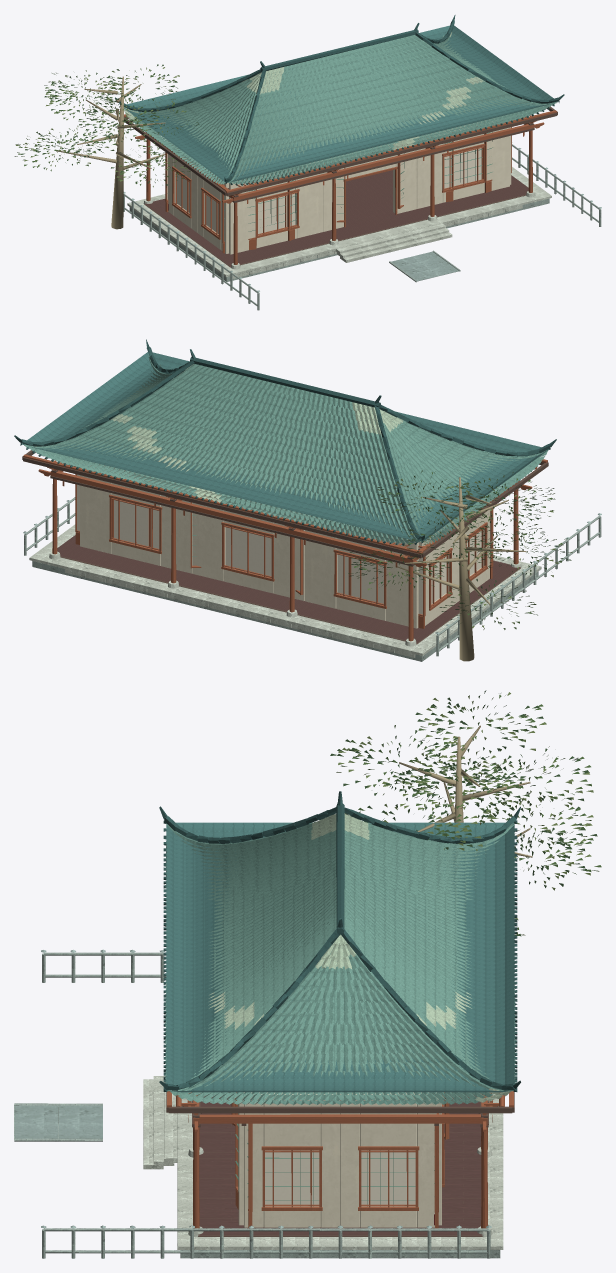
Rendered from reference-public_models_places-low_tubishanzhuang.glb.
3 views of the same model, one above another, from view 1: azimuth 30°, elevation 25°; view 2: azimuth 150°, elevation 25°; view 3: azimuth 270°, elevation 25° (orthographic). The views are drawn at different scales.
Visible parts, largest first — view 1: r15_tubishanzhuang_Sunwen_r18_hill_tile.001, r15_tubishanzhuang_Sunwen_r18_hill_roof.001, r15_tubishanzhuang_Sunwen_r18_hill_plaster.002, r15_tubishanzhuang_Sunwen_r18_hill_wood.001, r15_tubishanzhuang_Sunwen_r18_hill_cutstone.001, Mobile_tubishanzhuang_floorwood, Mobile_tubishanzhuang_plants, r15_tubishanzhuang_Sunwen_r18_hill_darkwood.001, r15_tubishanzhuang_Sunwen_r18_hill_stone.001, r15_tubishanzhuang_Sunwen_r18_hill_tiledark.001, r15_tubishanzhuang_Sunwen_r18_hill_screen.001, r15_tubishanzhuang_Sunwen_r18_hill_tilelight.001 (+2 smaller); view 2: r15_tubishanzhuang_Sunwen_r18_hill_tile.001, r15_tubishanzhuang_Sunwen_r18_hill_roof.001, r15_tubishanzhuang_Sunwen_r18_hill_plaster.002, r15_tubishanzhuang_Sunwen_r18_hill_wood.001, r15_tubishanzhuang_Sunwen_r18_hill_cutstone.001, Mobile_tubishanzhuang_plants, Mobile_tubishanzhuang_floorwood, r15_tubishanzhuang_Sunwen_r18_hill_tiledark.001, r15_tubishanzhuang_Sunwen_r18_hill_darkwood.001, r15_tubishanzhuang_Sunwen_r18_hill_stone.001, r15_tubishanzhuang_Sunwen_r18_hill_screen.002, r15_tubishanzhuang_Sunwen_r18_hill_screen.001 (+1 smaller); view 3: r15_tubishanzhuang_Sunwen_r18_hill_tile.001, r15_tubishanzhuang_Sunwen_r18_hill_roof.001, r15_tubishanzhuang_Sunwen_r18_hill_plaster.002, r15_tubishanzhuang_Sunwen_r18_hill_cutstone.001, Mobile_tubishanzhuang_floorwood, r15_tubishanzhuang_Sunwen_r18_hill_wood.001, Mobile_tubishanzhuang_plants, r15_tubishanzhuang_Sunwen_r18_hill_stone.001, r15_tubishanzhuang_Sunwen_r18_hill_tiledark.001, r15_tubishanzhuang_Sunwen_r18_hill_screen.001, r15_tubishanzhuang_Sunwen_r18_hill_darkwood.001, r15_tubishanzhuang_Sunwen_r18_hill_tilelight.001 (+2 smaller).
Boxes of the visible parts, <box> form: r15_tubishanzhuang_Sunwen_r18_hill_tile.001: <box>124,35,557,184</box>; r15_tubishanzhuang_Sunwen_r18_hill_roof.001: <box>124,25,558,182</box>; r15_tubishanzhuang_Sunwen_r18_hill_plaster.002: <box>168,120,511,254</box>; r15_tubishanzhuang_Sunwen_r18_hill_wood.001: <box>124,110,557,264</box>; r15_tubishanzhuang_Sunwen_r18_hill_cutstone.001: <box>127,167,551,278</box>; Mobile_tubishanzhuang_floorwood: <box>145,170,528,266</box>; Mobile_tubishanzhuang_plants: <box>14,64,198,229</box>; r15_tubishanzhuang_Sunwen_r18_hill_darkwood.001: <box>124,106,557,267</box>; r15_tubishanzhuang_Sunwen_r18_hill_stone.001: <box>123,144,601,310</box>; r15_tubishanzhuang_Sunwen_r18_hill_tiledark.001: <box>115,15,564,185</box>; r15_tubishanzhuang_Sunwen_r18_hill_screen.001: <box>177,148,481,233</box>; r15_tubishanzhuang_Sunwen_r18_hill_tilelight.001: <box>124,32,484,150</box>; r15_tubishanzhuang_Sunwen_r18_hill_tile.001: <box>23,355,548,543</box>; r15_tubishanzhuang_Sunwen_r18_hill_roof.001: <box>22,352,548,541</box>; r15_tubishanzhuang_Sunwen_r18_hill_plaster.002: <box>80,464,491,628</box>; r15_tubishanzhuang_Sunwen_r18_hill_wood.001: <box>23,454,547,641</box>; r15_tubishanzhuang_Sunwen_r18_hill_cutstone.001: <box>29,524,541,657</box>; Mobile_tubishanzhuang_plants: <box>348,470,572,661</box>; Mobile_tubishanzhuang_floorwood: <box>57,535,520,642</box>; r15_tubishanzhuang_Sunwen_r18_hill_tiledark.001: <box>14,339,556,545</box>; r15_tubishanzhuang_Sunwen_r18_hill_darkwood.001: <box>22,450,548,644</box>; r15_tubishanzhuang_Sunwen_r18_hill_stone.001: <box>24,497,601,661</box>; r15_tubishanzhuang_Sunwen_r18_hill_screen.002: <box>77,474,422,614</box>; r15_tubishanzhuang_Sunwen_r18_hill_screen.001: <box>225,527,481,603</box>; r15_tubishanzhuang_Sunwen_r18_hill_tile.001: <box>165,818,515,1105</box>; r15_tubishanzhuang_Sunwen_r18_hill_roof.001: <box>166,822,514,1092</box>; r15_tubishanzhuang_Sunwen_r18_hill_plaster.002: <box>238,1092,441,1227</box>; r15_tubishanzhuang_Sunwen_r18_hill_cutstone.001: <box>143,1075,503,1249</box>; Mobile_tubishanzhuang_floorwood: <box>198,1095,482,1235</box>; r15_tubishanzhuang_Sunwen_r18_hill_wood.001: <box>167,1091,513,1228</box>; Mobile_tubishanzhuang_plants: <box>330,690,601,936</box>; r15_tubishanzhuang_Sunwen_r18_hill_stone.001: <box>14,952,500,1258</box>; r15_tubishanzhuang_Sunwen_r18_hill_tiledark.001: <box>159,791,520,1091</box>; r15_tubishanzhuang_Sunwen_r18_hill_screen.001: <box>265,1150,415,1204</box>; r15_tubishanzhuang_Sunwen_r18_hill_darkwood.001: <box>166,845,514,1236</box>; r15_tubishanzhuang_Sunwen_r18_hill_tilelight.001: <box>165,814,514,1102</box>.
Size of the model in its own units: 28.33 by 10.2 by 19.83.
15 materials, 14 textured.
